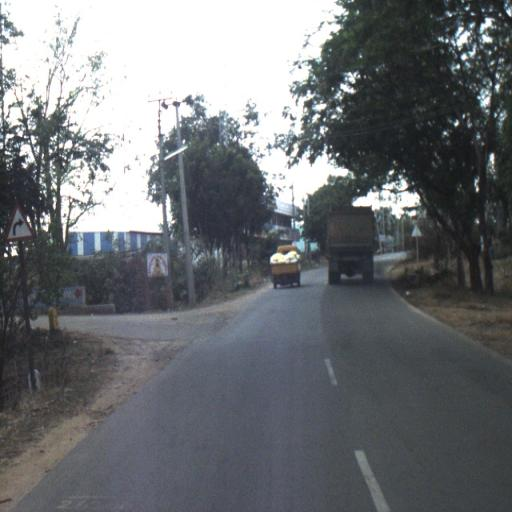street_light_0: (156, 142, 188, 166)
